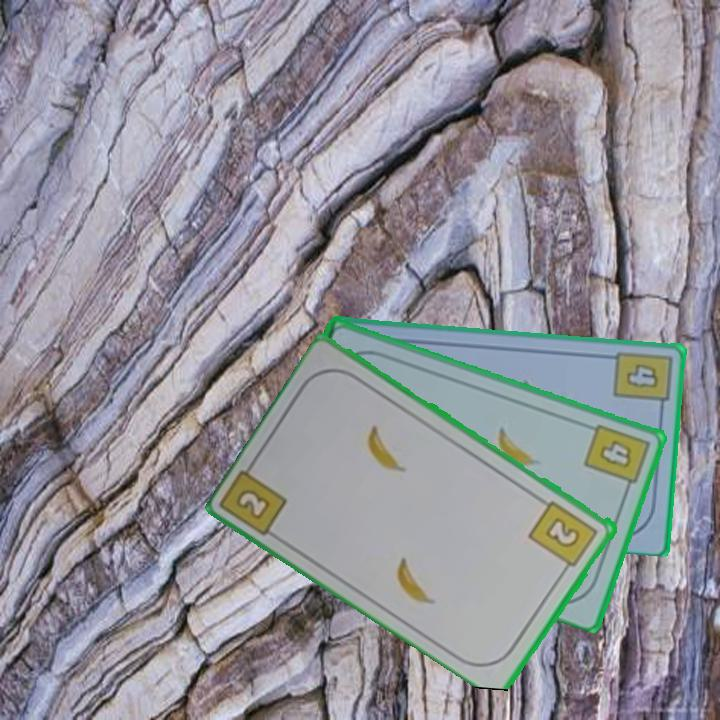2b: (526, 497, 602, 576), (233, 485, 274, 523)
4b: (580, 419, 653, 495), (610, 347, 674, 414)
